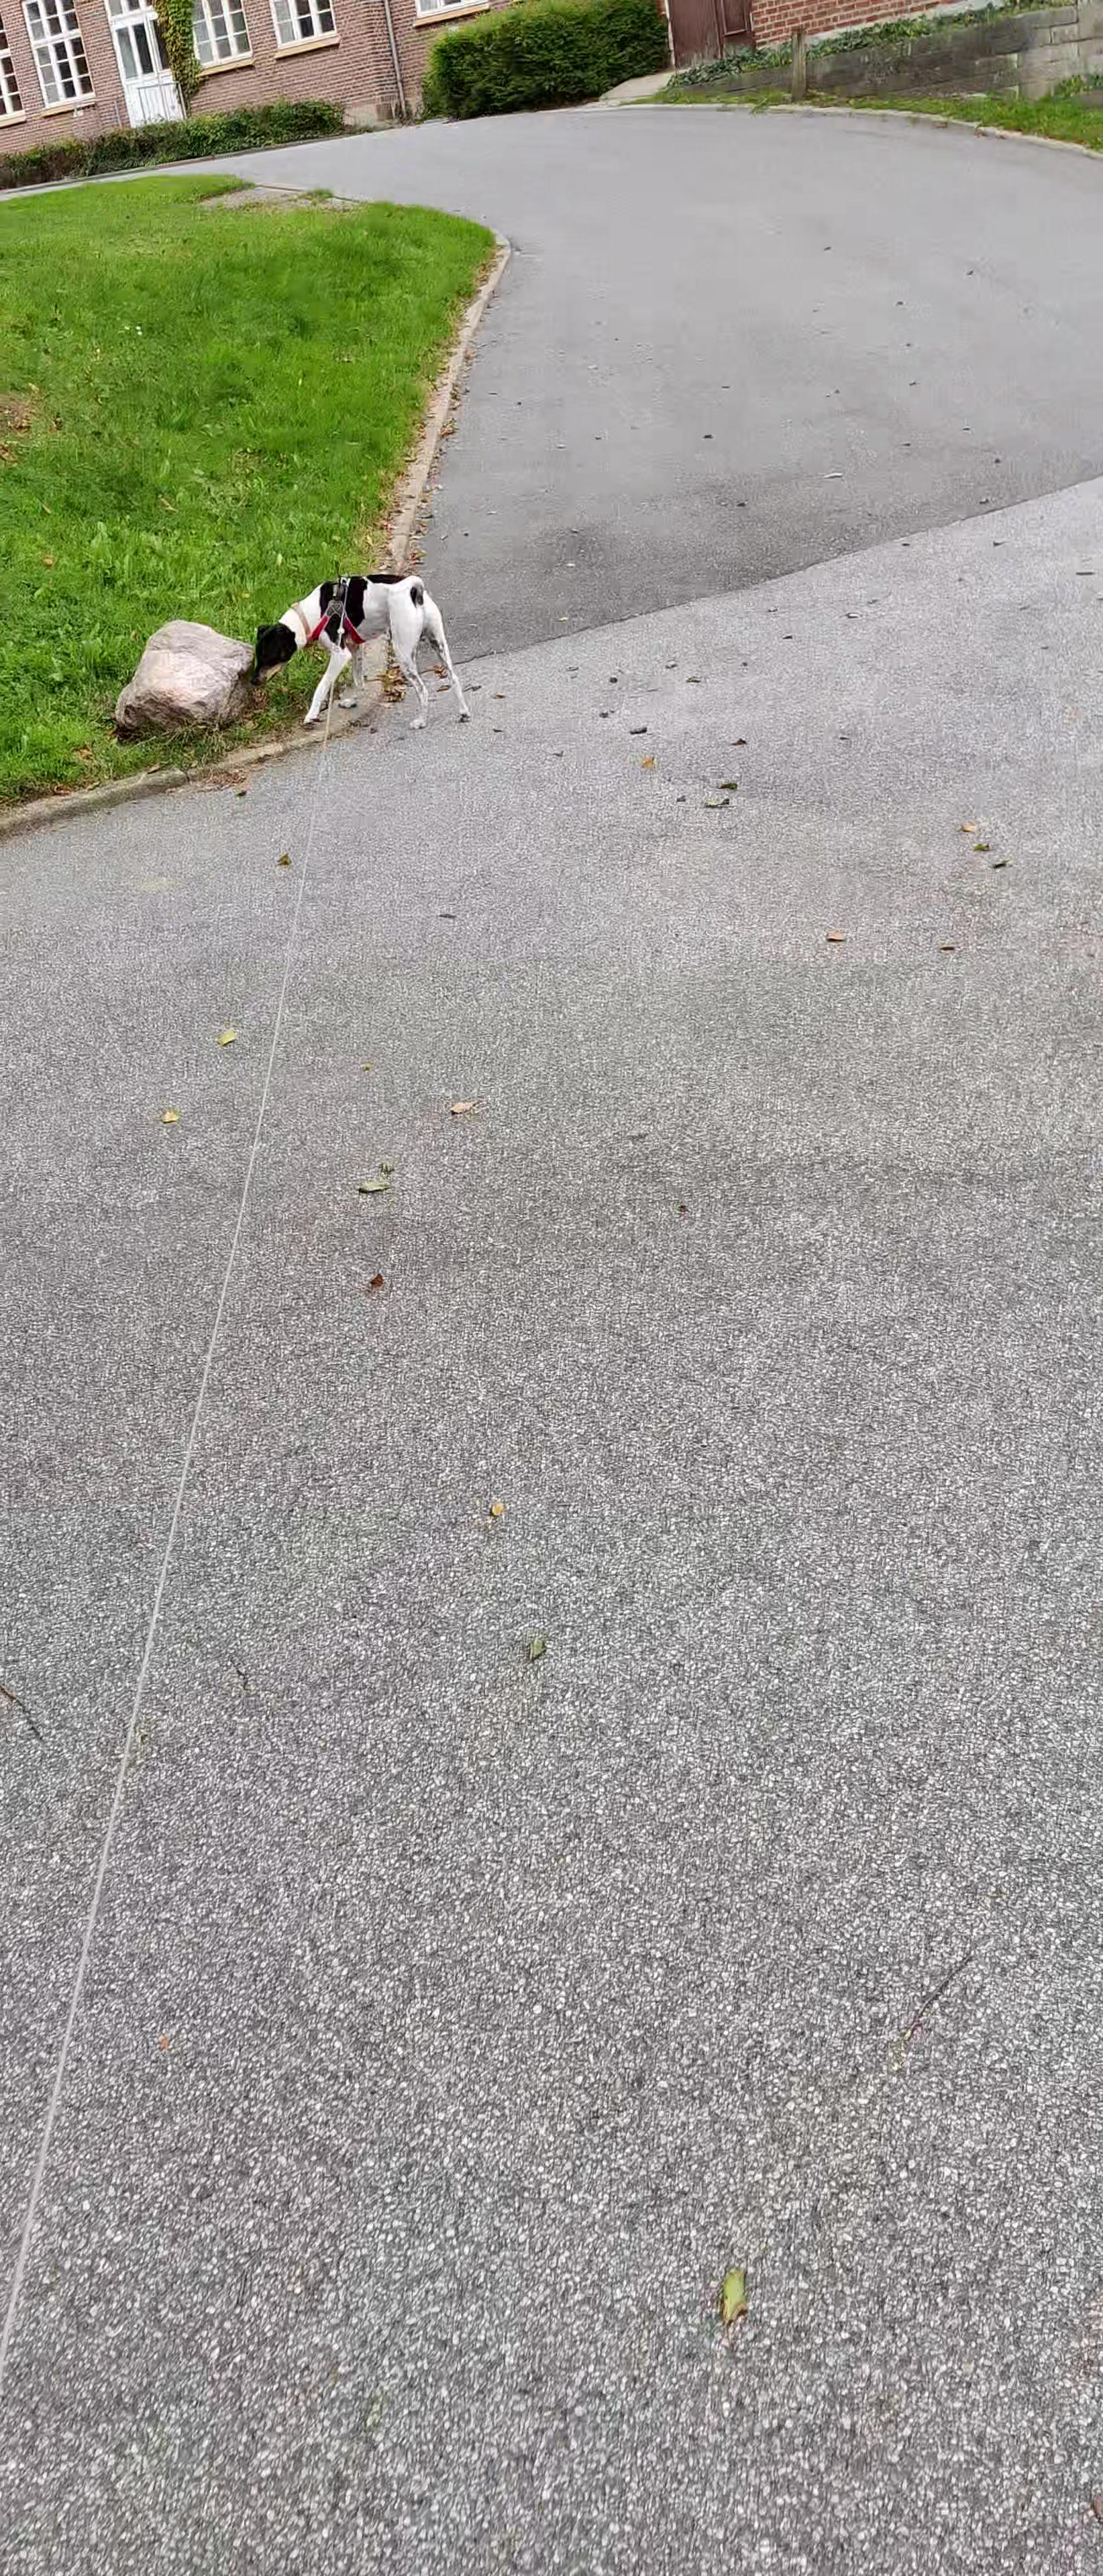Dog: (233, 557, 482, 736)
